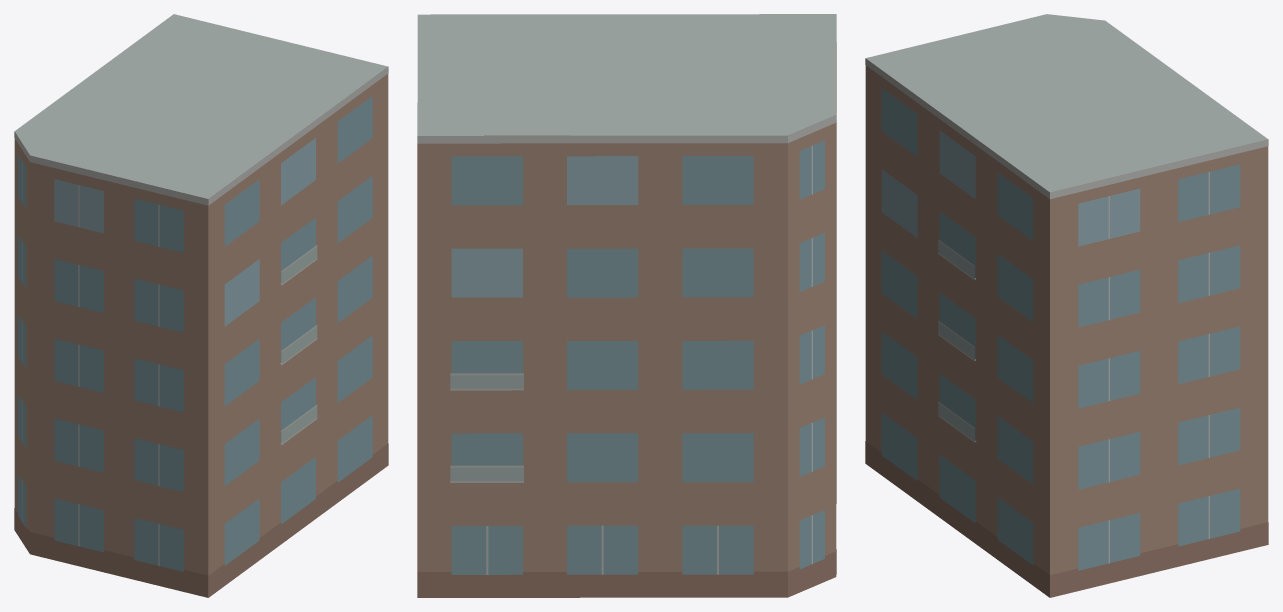
The model's file is survey-upis-32687785.glb.
The picture shows the model from 3 angles, left to right: view 1: azimuth 30°, elevation 25°; view 2: azimuth 150°, elevation 25°; view 3: azimuth 270°, elevation 25°; orthographic projection. The views are drawn at different scales.
Visible parts, largest first — view 1: survey-upis-32687785.tmp; view 2: survey-upis-32687785.tmp; view 3: survey-upis-32687785.tmp.
Boxes of the visible parts, <box> form: survey-upis-32687785.tmp: <box>14,14,388,597</box>; survey-upis-32687785.tmp: <box>417,14,836,597</box>; survey-upis-32687785.tmp: <box>865,14,1268,597</box>.
Size of the model in its own units: 13.79 by 14.6 by 13.16.
